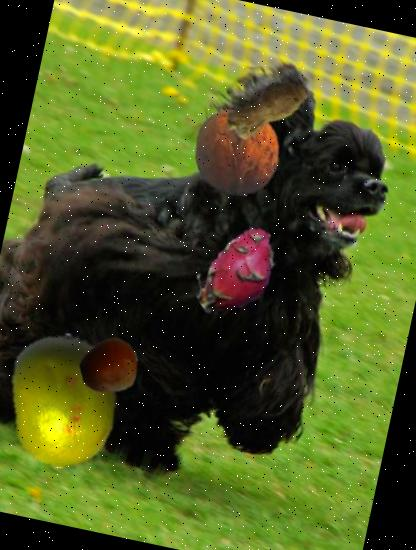Ginger: (211, 54, 320, 163)
Nut: (74, 332, 144, 402)
Pitahaya: (181, 217, 294, 330)
Pomelo: (0, 321, 143, 482)
Walnut: (185, 100, 288, 204)
